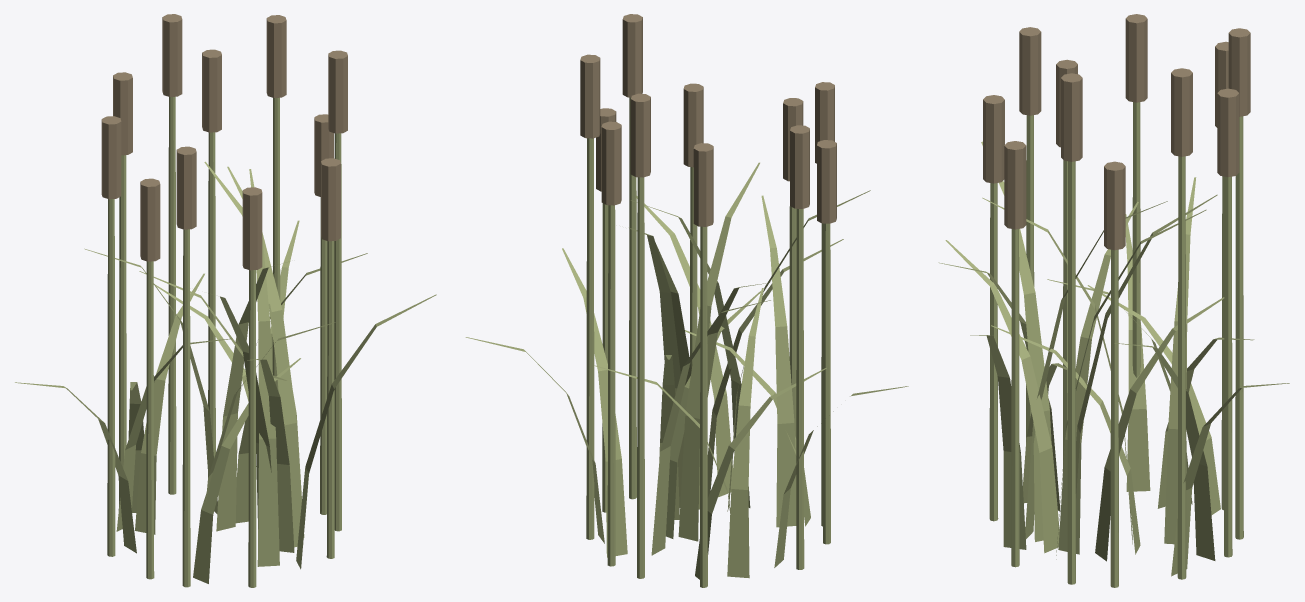
The model's file is reeds.glb.
3 renders of one model, left to right at view 1: azimuth 30°, elevation 25°; view 2: azimuth 150°, elevation 25°; view 3: azimuth 270°, elevation 25°, orthographic. The views are drawn at different scales.
Parts seen in each view (by area): view 1: reed-bed; view 2: reed-bed; view 3: reed-bed.
Part boxes in pixels (<box>): reed-bed: <box>15,14,436,587</box>; reed-bed: <box>465,14,908,587</box>; reed-bed: <box>938,14,1289,587</box>.
Bounding box in the file's own units: 1.42 × 1.78 × 1.13.
